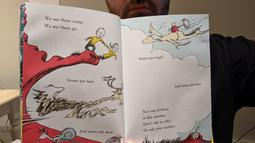text block: (139, 104, 178, 132), (40, 10, 85, 34), (60, 73, 97, 85), (76, 125, 115, 136), (172, 79, 206, 91), (134, 53, 166, 62)
